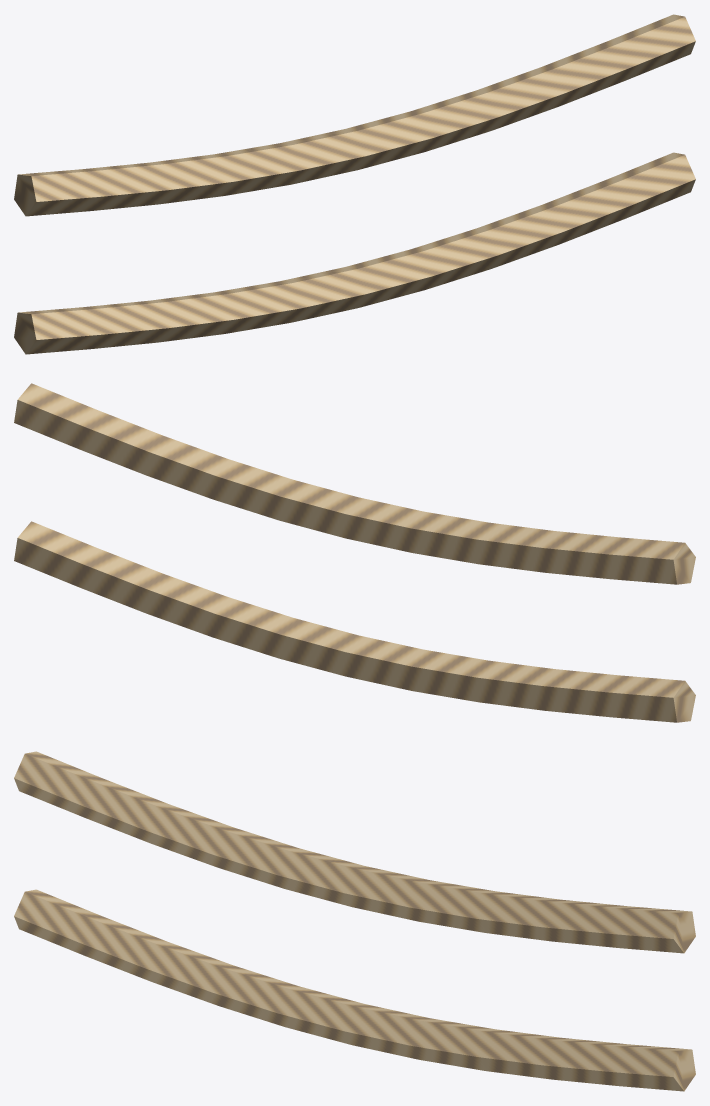
File: fence_rope_1m.glb
3 renders of one model, top to bottom at view 1: azimuth 30°, elevation 25°; view 2: azimuth 150°, elevation 25°; view 3: azimuth 330°, elevation 25°, orthographic.
Visible parts, largest first — view 1: fence_rope_1m; view 2: fence_rope_1m; view 3: fence_rope_1m.
Boxes of the visible parts, x1,y1,x2,y2 form: fence_rope_1m: (14,14,695,354); fence_rope_1m: (14,383,695,722); fence_rope_1m: (14,751,695,1091).
Bounding box in the file's own units: 1.01 × 0.3067 × 0.0543.
Materials: 1 (1 with a texture image).
